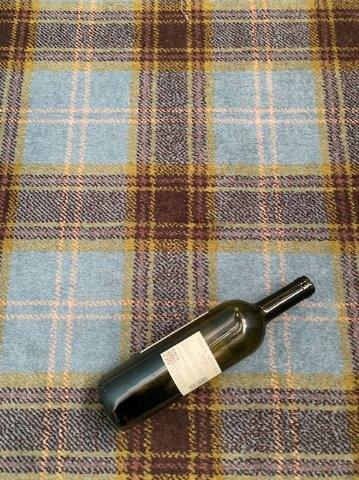botolkaca: (99, 274, 316, 429)
